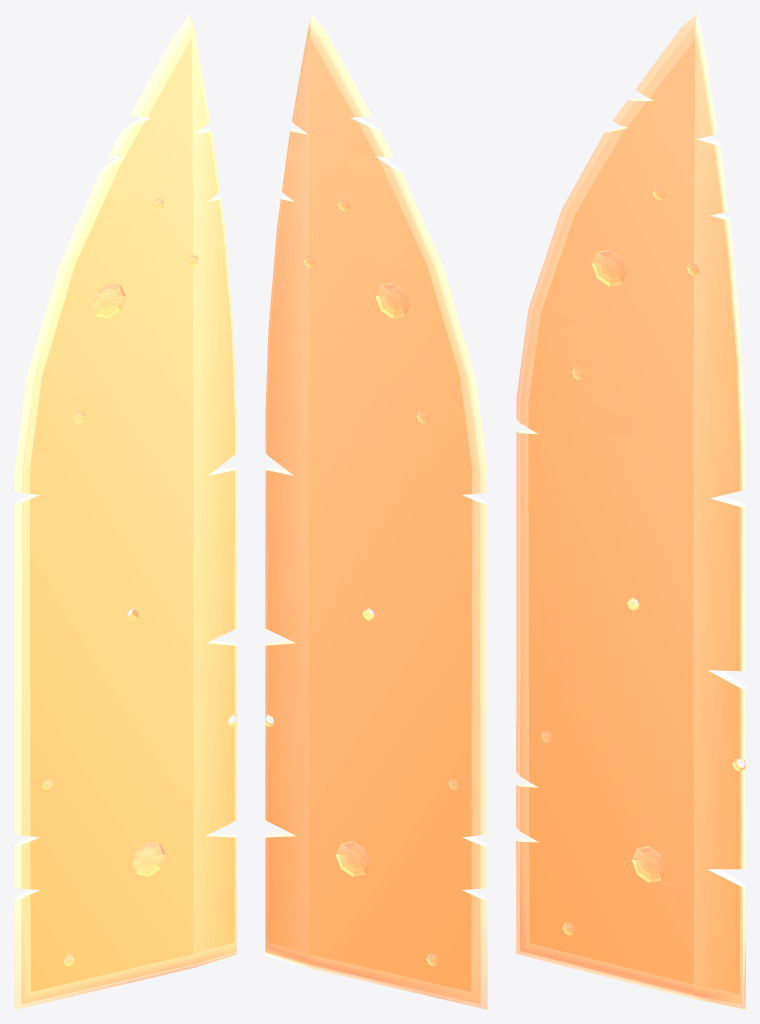
The model's file is wood_blade_bubbles_077.glb.
The picture shows the model from 3 angles, left to right: view 1: azimuth 30°, elevation 25°; view 2: azimuth 150°, elevation 25°; view 3: azimuth 330°, elevation 25°; orthographic projection. The views are drawn at different scales.
Parts seen in each view (by area): view 1: wood_blade_bubbles.077; view 2: wood_blade_bubbles.077; view 3: wood_blade_bubbles.077.
Part boxes in pixels (x1,y1,x2,y2): wood_blade_bubbles.077: [14, 14, 236, 1009]; wood_blade_bubbles.077: [265, 14, 487, 1009]; wood_blade_bubbles.077: [516, 14, 745, 1009].
Bounding box in the file's own units: 2.79 × 11.43 × 0.1594.
Materials: 1 (1 with a texture image).
